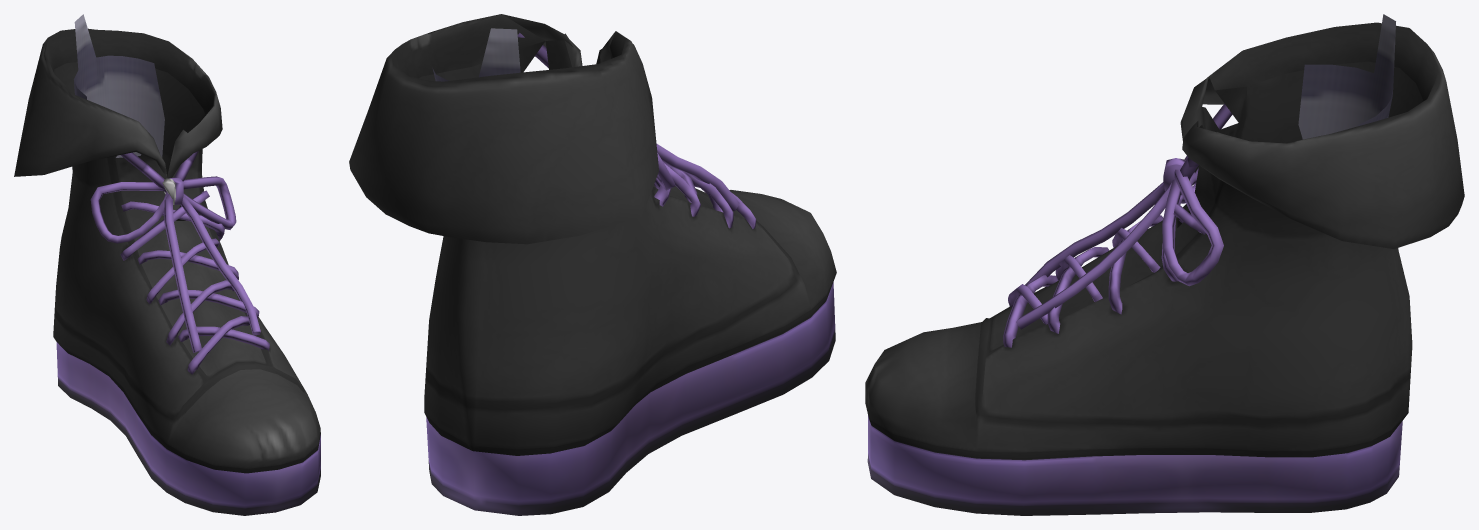
File: feet_L.obj
3 views of the same model, side by side, from view 1: azimuth 30°, elevation 25°; view 2: azimuth 150°, elevation 25°; view 3: azimuth 270°, elevation 25° (orthographic). The views are drawn at different scales.
Parts seen in each view (by area): view 1: feet_L; view 2: feet_L; view 3: feet_L.
Boxes of the visible parts, x1,y1,x2,y2 form: feet_L: (14,14,320,515); feet_L: (349,14,836,515); feet_L: (865,14,1464,515).
Bounding box in the file's own units: 0.1065 × 0.1813 × 0.2196.
Materials: 2 (2 with a texture image).
